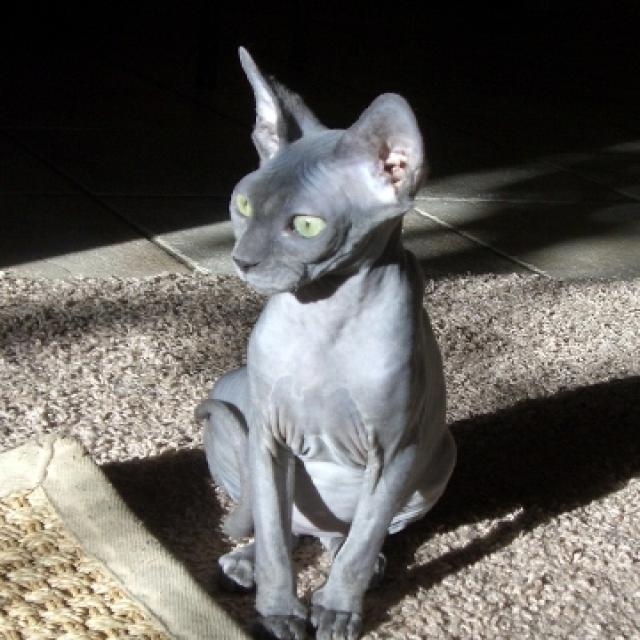Sphynx: (194, 41, 464, 640)
